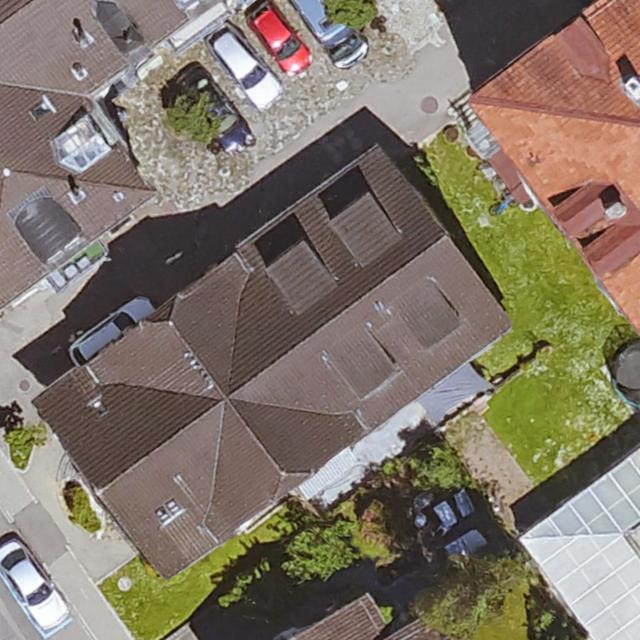tree: (421, 558, 504, 633), (288, 529, 356, 580), (410, 449, 469, 493), (168, 101, 217, 142), (332, 0, 378, 25), (8, 435, 30, 462)
